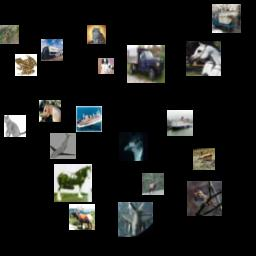airplane: (118, 202, 153, 237), (50, 133, 76, 159)
bird: (187, 181, 222, 216), (119, 132, 148, 161)
cat: (4, 115, 26, 137), (87, 25, 106, 44)
deer: (69, 204, 95, 230), (193, 148, 215, 170), (142, 173, 164, 195), (0, 25, 19, 44)
dog: (98, 58, 114, 74)
frog: (15, 54, 37, 76)
ship: (76, 106, 102, 132), (167, 110, 193, 136)
truck: (127, 45, 165, 83), (212, 4, 241, 33), (41, 39, 63, 61)
